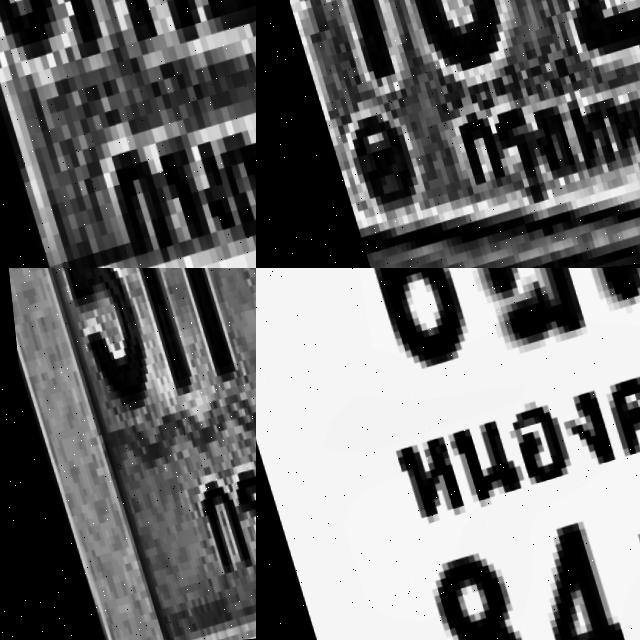license-plate: (256, 268, 640, 640), (256, 0, 640, 268), (0, 268, 256, 640), (0, 0, 256, 268)
